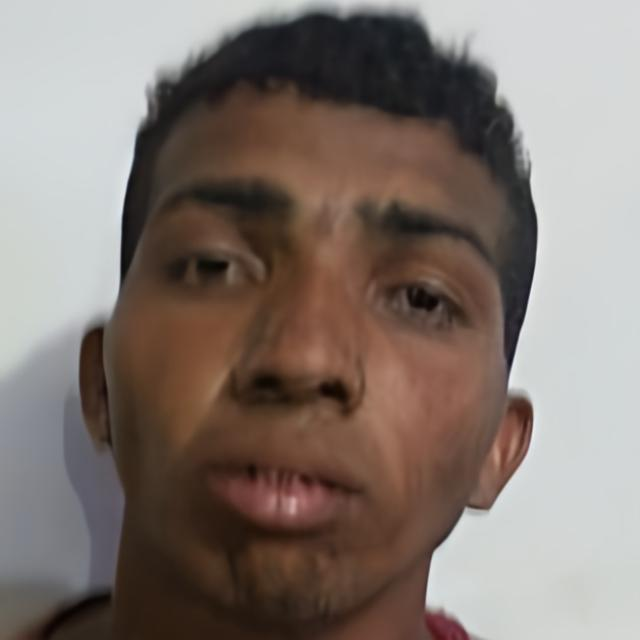sad: (102, 85, 510, 620)
